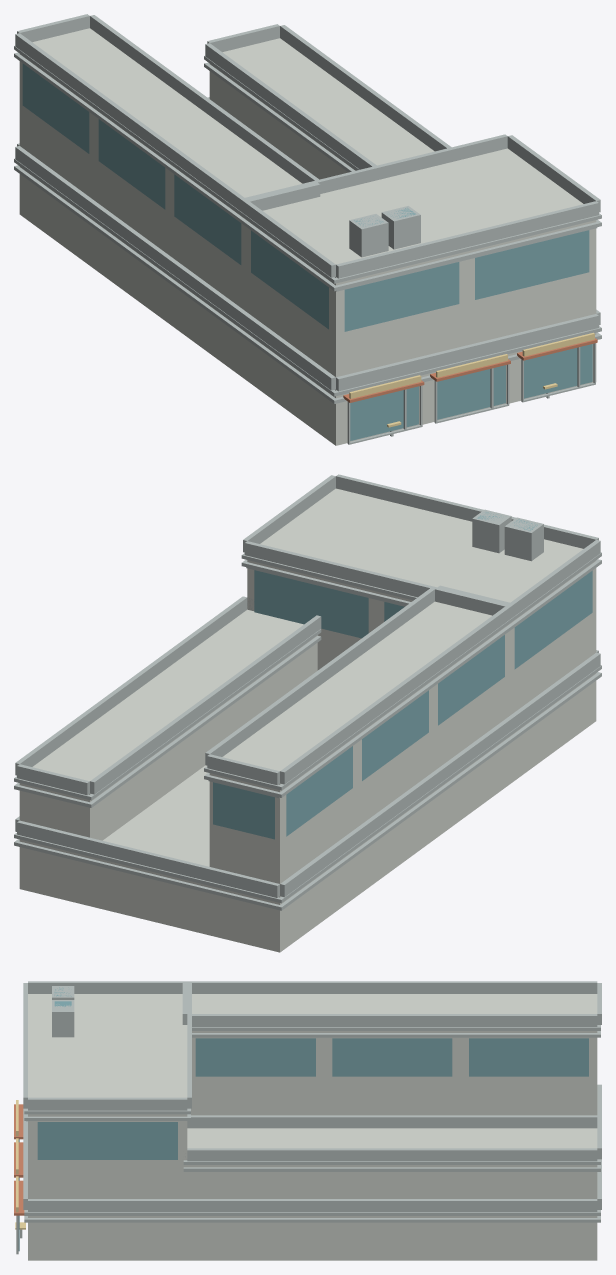
Rendered from commercial_2x4_court.glb.
3 views of the same model, one above another, from view 1: azimuth 30°, elevation 25°; view 2: azimuth 150°, elevation 25°; view 3: azimuth 270°, elevation 25° (orthographic). The views are drawn at different scales.
Parts seen in each view (by area): view 1: commercial_2x4_court_0; view 2: commercial_2x4_court_0; view 3: commercial_2x4_court_0.
Boxes of the visible parts, x1,y1,x2,y2 form: commercial_2x4_court_0: [14, 14, 601, 445]; commercial_2x4_court_0: [14, 474, 601, 952]; commercial_2x4_court_0: [14, 981, 601, 1260].
Bounding box in the file's own units: 15 × 10.5 × 31.5.
